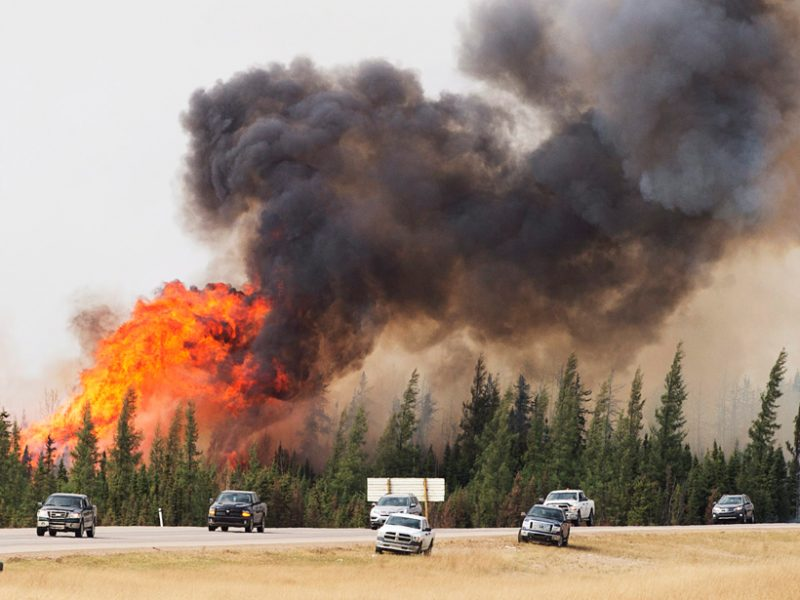fire: (53, 297, 274, 458)
